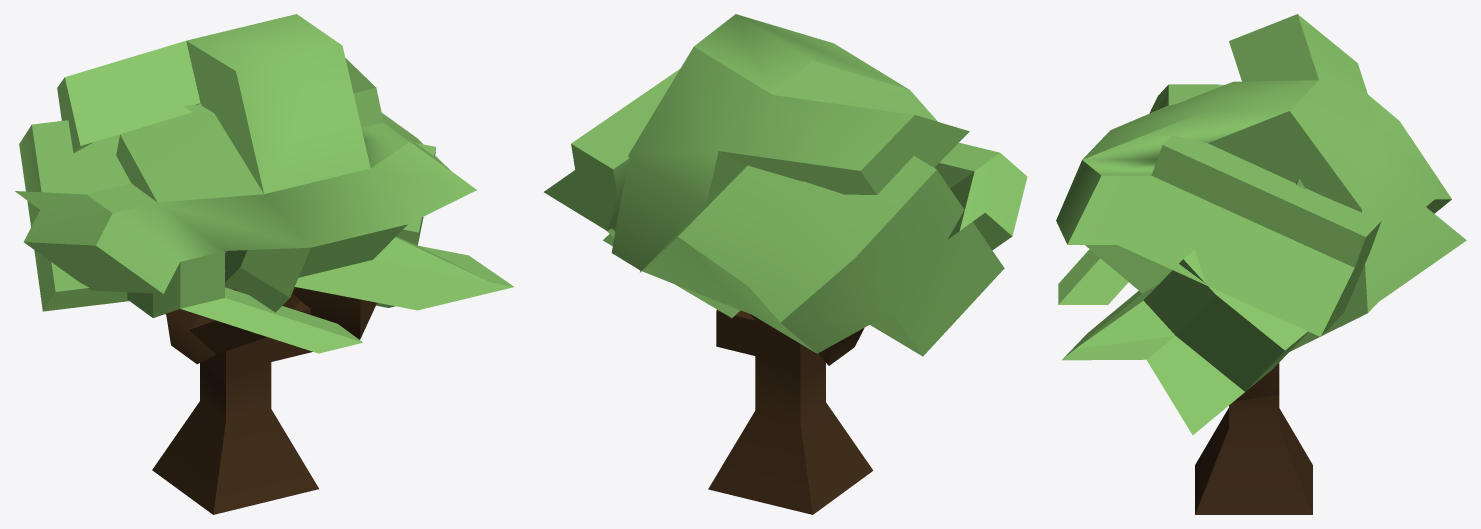
The model's file is Tree1.fbx.
The picture shows the model from 3 angles, left to right: view 1: azimuth 30°, elevation 25°; view 2: azimuth 150°, elevation 25°; view 3: azimuth 270°, elevation 25°; orthographic projection. The views are drawn at different scales.
Parts seen in each view (by area): view 1: Grass1, TreeTrunk; view 2: Grass1, TreeTrunk; view 3: Grass1, TreeTrunk.
Part boxes in pixels (x1,y1,x2,y2): Grass1: (15,14,513,353); TreeTrunk: (152,287,376,514); Grass1: (544,14,1027,356); TreeTrunk: (708,309,873,514); Grass1: (1056,14,1466,434); TreeTrunk: (1195,363,1312,514).
Bounding box in the file's own units: 7.99 × 7.51 × 6.71.
